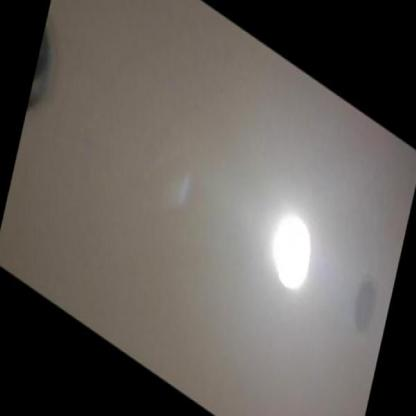light_off: (24, 10, 76, 138)
